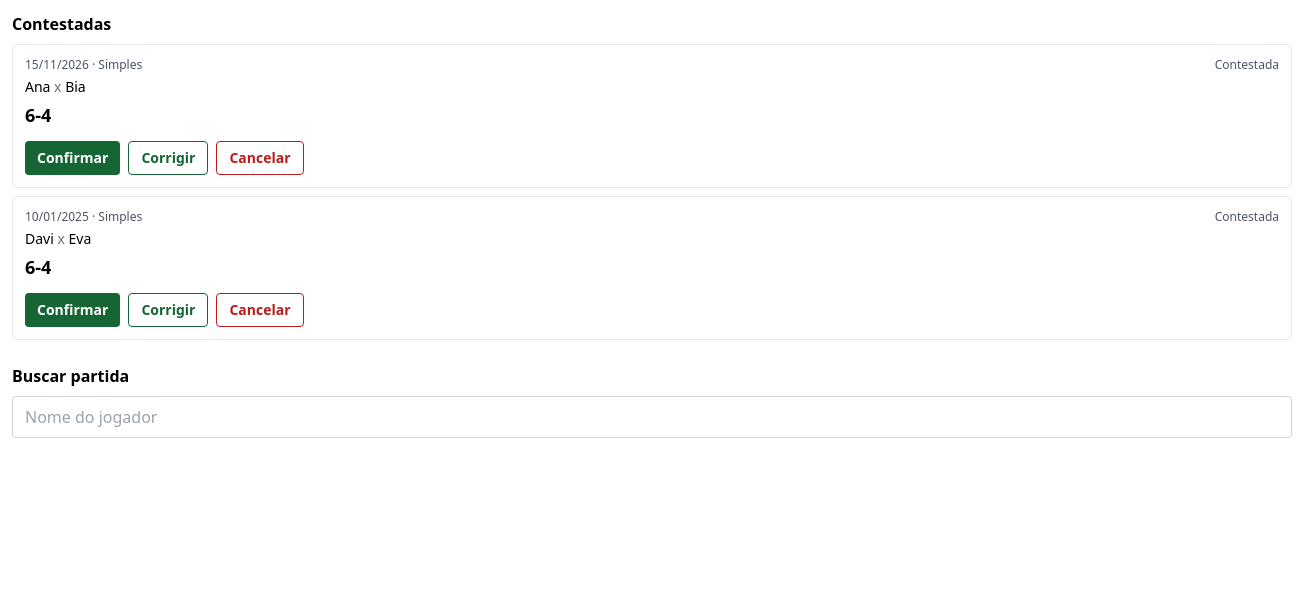
it: busca não repete as contestadas
Expected: the heading "Contestadas" is shown, [12,13,111,35]
Type "ana" into the search field named "Buscar partida por jogador" at (652, 417), box [12,396,1292,438]
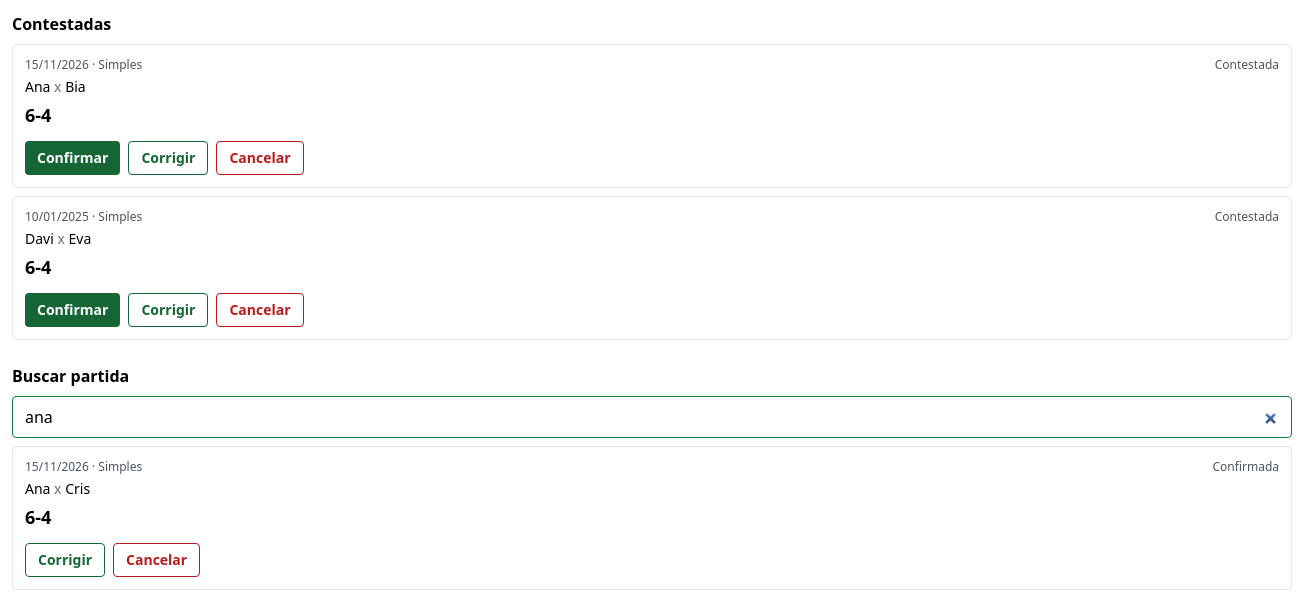
Now the text "Ana x Cris" is shown, box [25,479,90,498]
